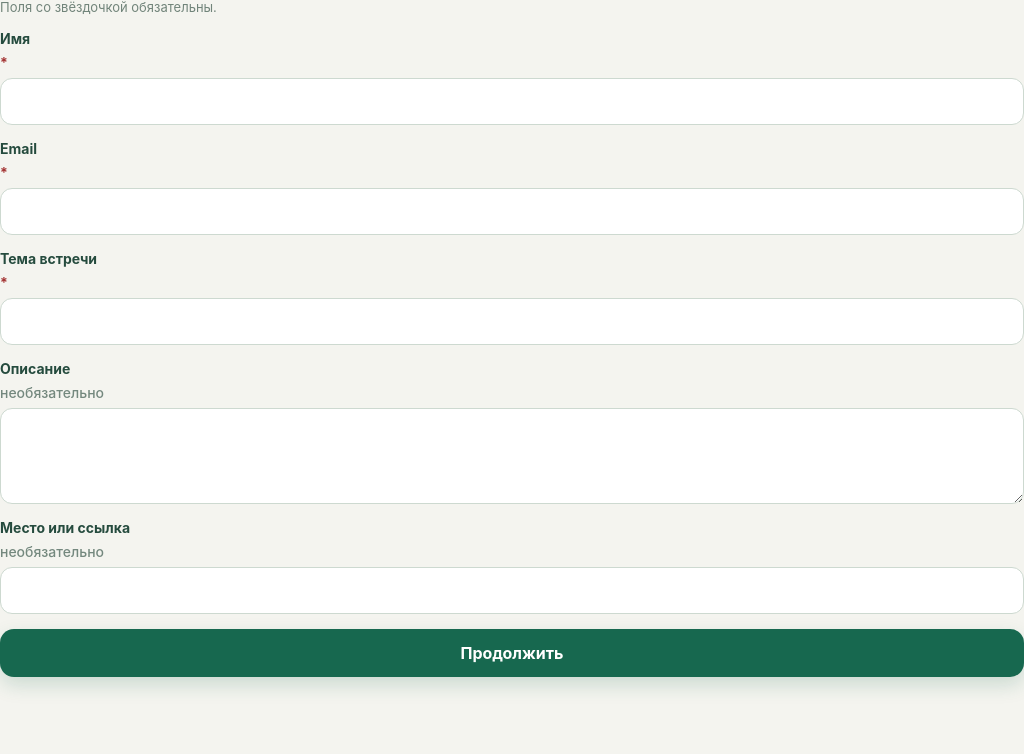
it: локальный UAT экранов › объясняет, какие обязательные поля не заполнены на пятом шаге
This screenshot has width=1024, height=754.
Click the button "Продолжить": {"x": 512, "y": 653} [0,629,1023,677]
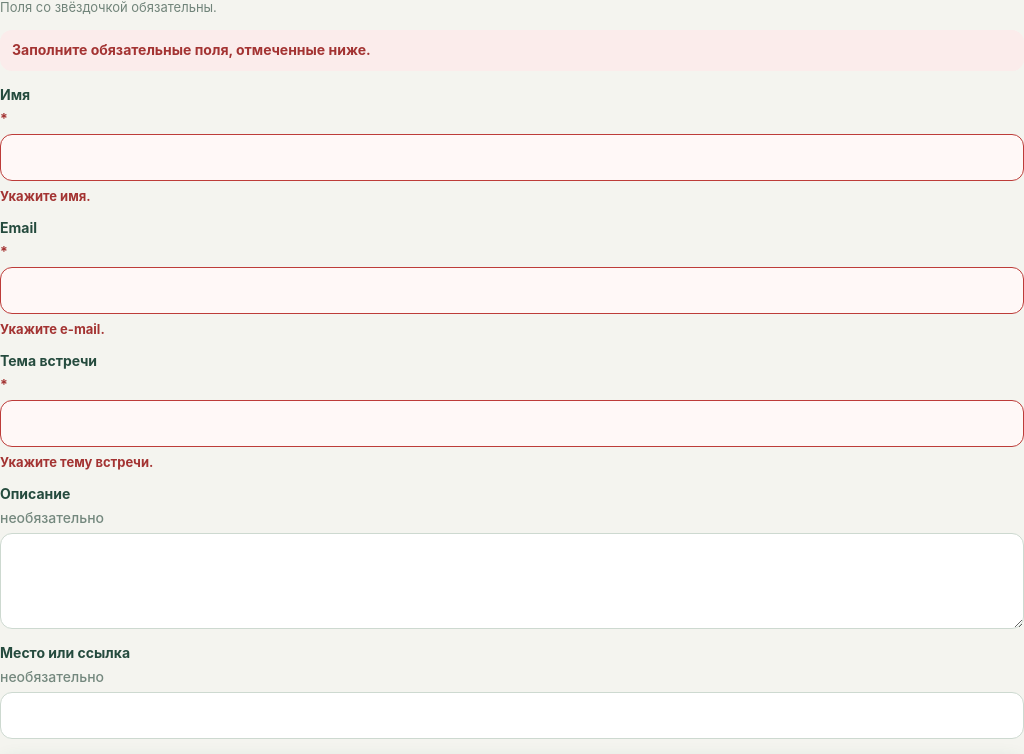
Result: the message shows "Заполните обязательные поля" at [12,41,371,58]
Result: the text "Укажите имя." is shown at [0,188,91,204]
Result: the text "Укажите e-mail." is shown at [0,321,105,337]
